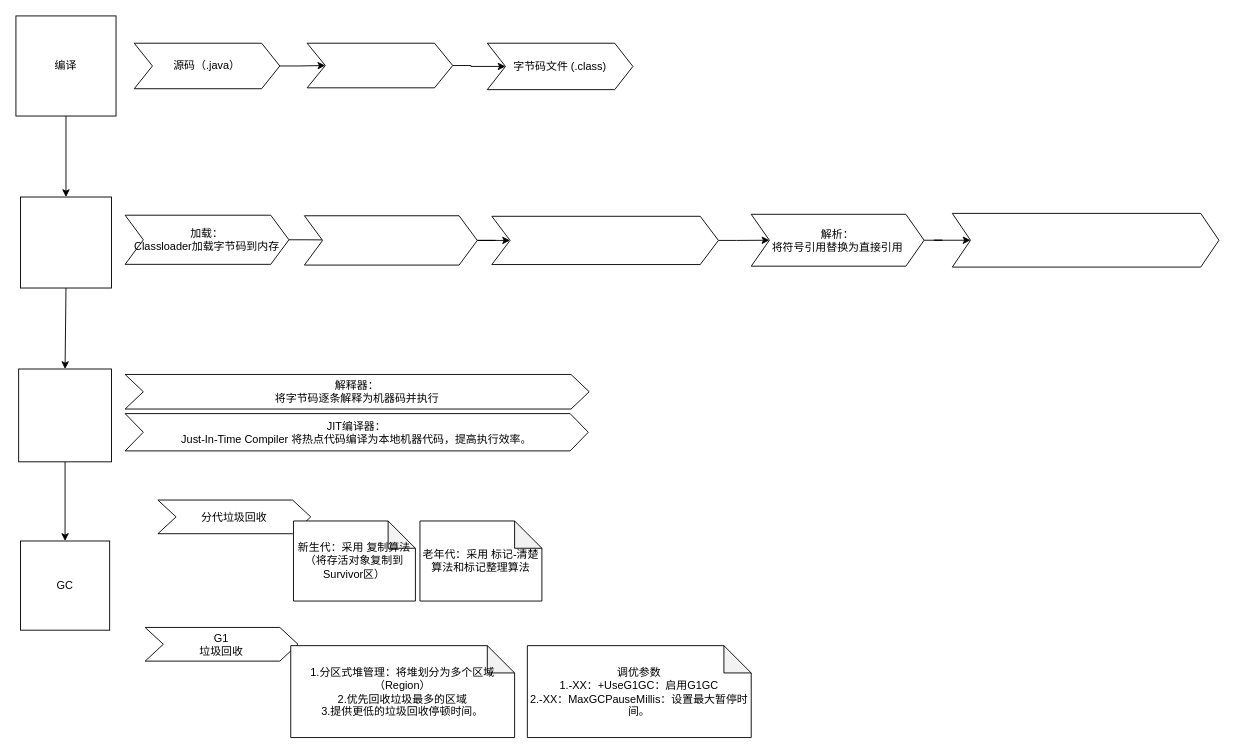
This 1235x753 diagram has some shape labels left out. The shapes that lost their labels are listed below. From the top down, each one's box as (x1, y1, x2, y2) in pixels, then its label:
(306, 42, 453, 88): javac编译
(20, 196, 111, 288): 加载
(303, 215, 477, 265): 验证： 检查字节码文件的格式和 安全性
(491, 215, 718, 265): 准备： 为类的静态变量分配内存并初始化默认值
(951, 212, 1219, 267): 初始化： 执行类的静态初始化块和静态变量的赋值操作
(18, 368, 111, 462): 执行
